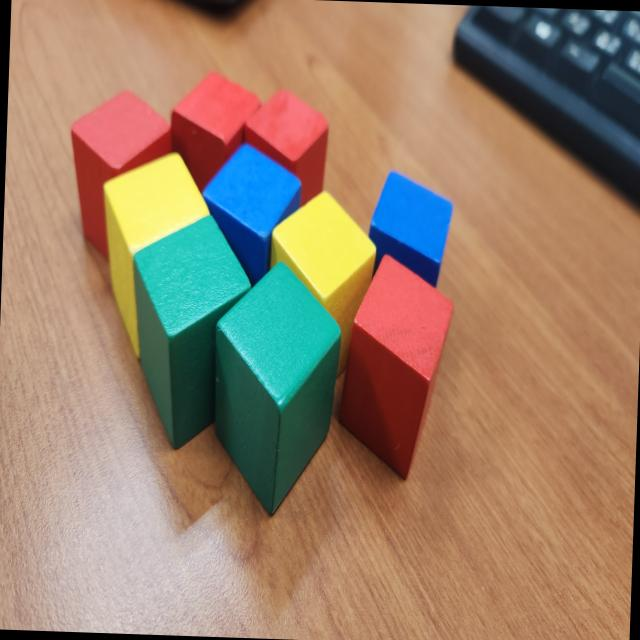blue: (198, 140, 304, 292), (364, 169, 454, 289)
green: (206, 258, 344, 517), (125, 213, 256, 452)
red: (332, 252, 458, 482), (66, 85, 178, 262), (166, 70, 262, 192), (241, 86, 331, 210)
yellow: (96, 148, 212, 363), (269, 188, 377, 352)
